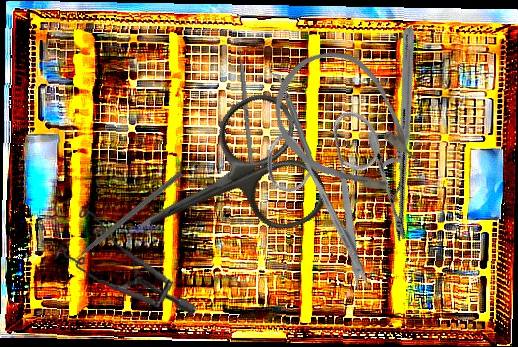Cannula: (250, 29, 447, 226)
Chopper: (58, 164, 184, 270), (264, 70, 333, 200)
Iris Scissors: (229, 82, 451, 300), (110, 84, 335, 287)
Needle Holder: (313, 26, 497, 242)
Pusher: (235, 35, 255, 166)
Speculum: (50, 204, 204, 316)
